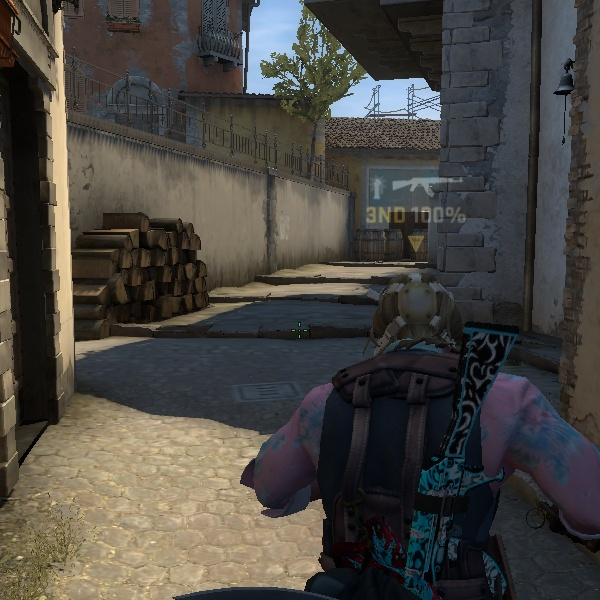t_head: (351, 261, 488, 387)
